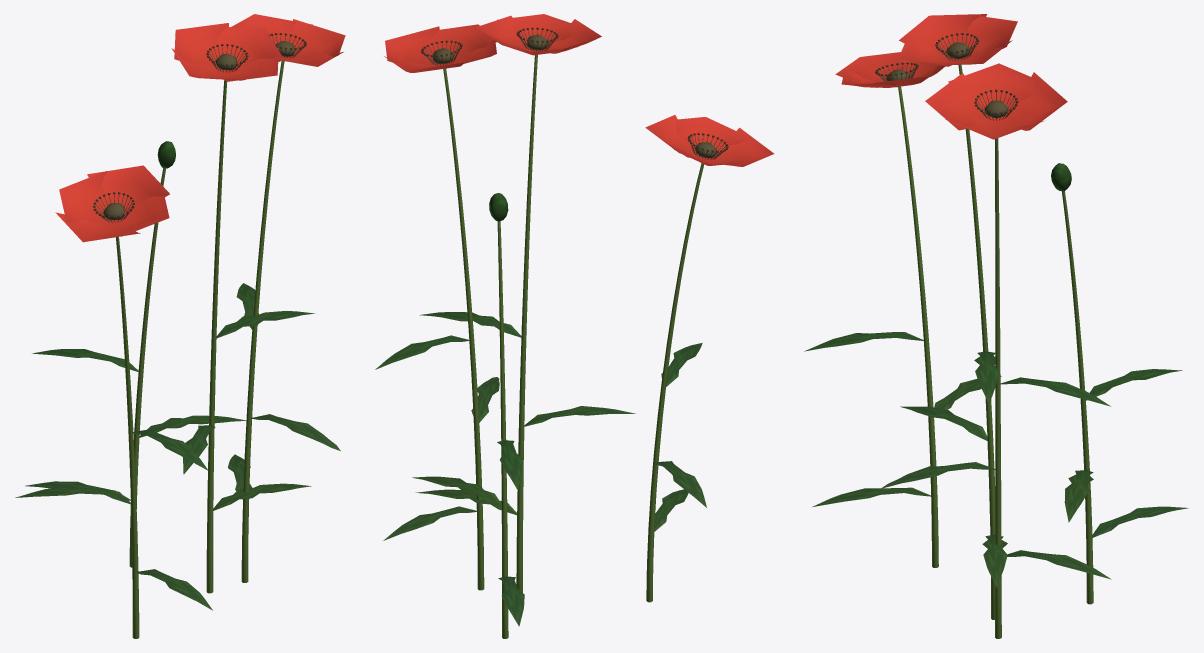
The model's file is m-poppy.glb.
3 views of the same model, side by side, from view 1: azimuth 30°, elevation 25°; view 2: azimuth 150°, elevation 25°; view 3: azimuth 270°, elevation 25° (orthographic). The views are drawn at different scales.
Visible parts, largest first — view 1: Flowers, Stems, Foliage; view 2: Flowers, Stems, Foliage; view 3: Flowers, Foliage, Stems.
Boxes of the visible parts, box(x1,y1,x2,y2) form: Flowers: box(55, 14, 345, 242); Stems: box(116, 60, 284, 638); Foliage: box(15, 141, 340, 610); Flowers: box(384, 14, 774, 166); Stems: box(443, 55, 704, 638); Foliage: box(375, 193, 706, 626); Flowers: box(835, 14, 1067, 139); Foliage: box(804, 163, 1188, 587); Stems: box(898, 64, 1093, 638).
Size of the model in its own units: 0.3788 by 0.6193 by 0.3702.
Materials: 3 (1 with a texture image).
